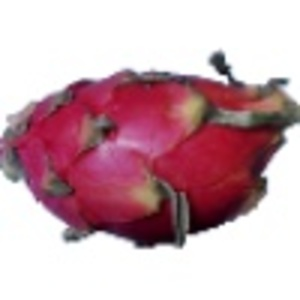pitaia: (1, 51, 300, 249)
